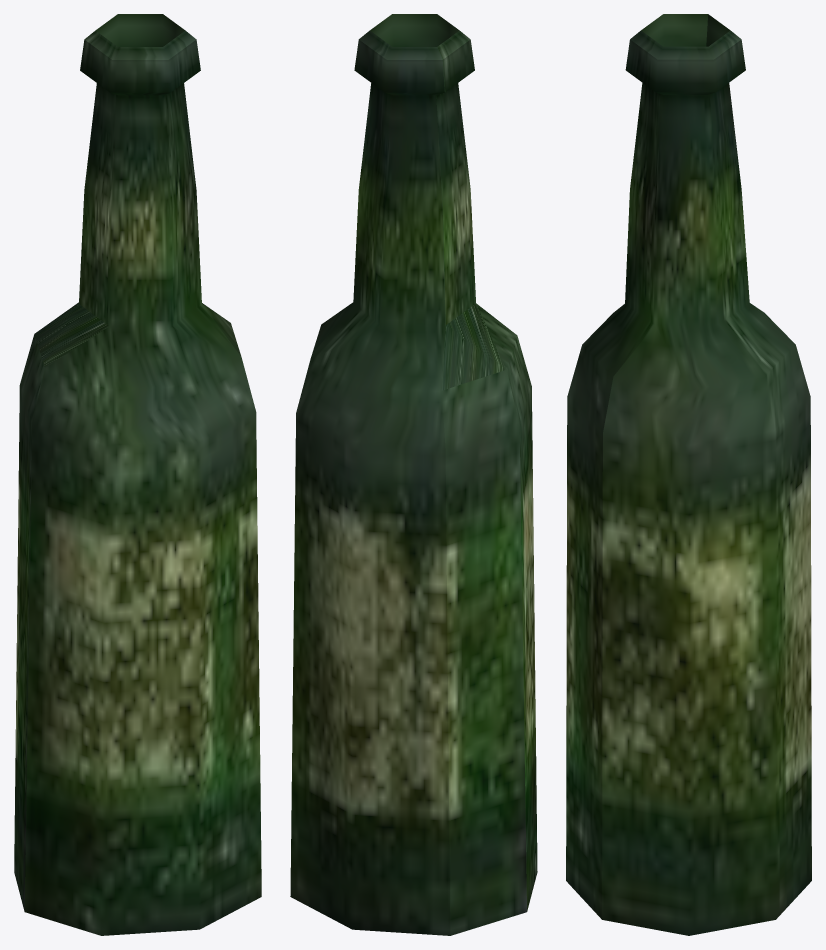
The model's file is glassbottle01a.glb.
3 views of the same model, side by side, from view 1: azimuth 30°, elevation 25°; view 2: azimuth 150°, elevation 25°; view 3: azimuth 270°, elevation 25° (orthographic).
Visible parts, largest first — view 1: 0_glassbottle01a; view 2: 0_glassbottle01a; view 3: 0_glassbottle01a.
Part boxes in pixels (<box>): 0_glassbottle01a: <box>14,14,261,935</box>; 0_glassbottle01a: <box>290,14,537,935</box>; 0_glassbottle01a: <box>566,14,811,935</box>.
Bounding box in the file's own units: 0.0915 × 0.3295 × 0.0863.
Materials: 1 (1 with a texture image).
